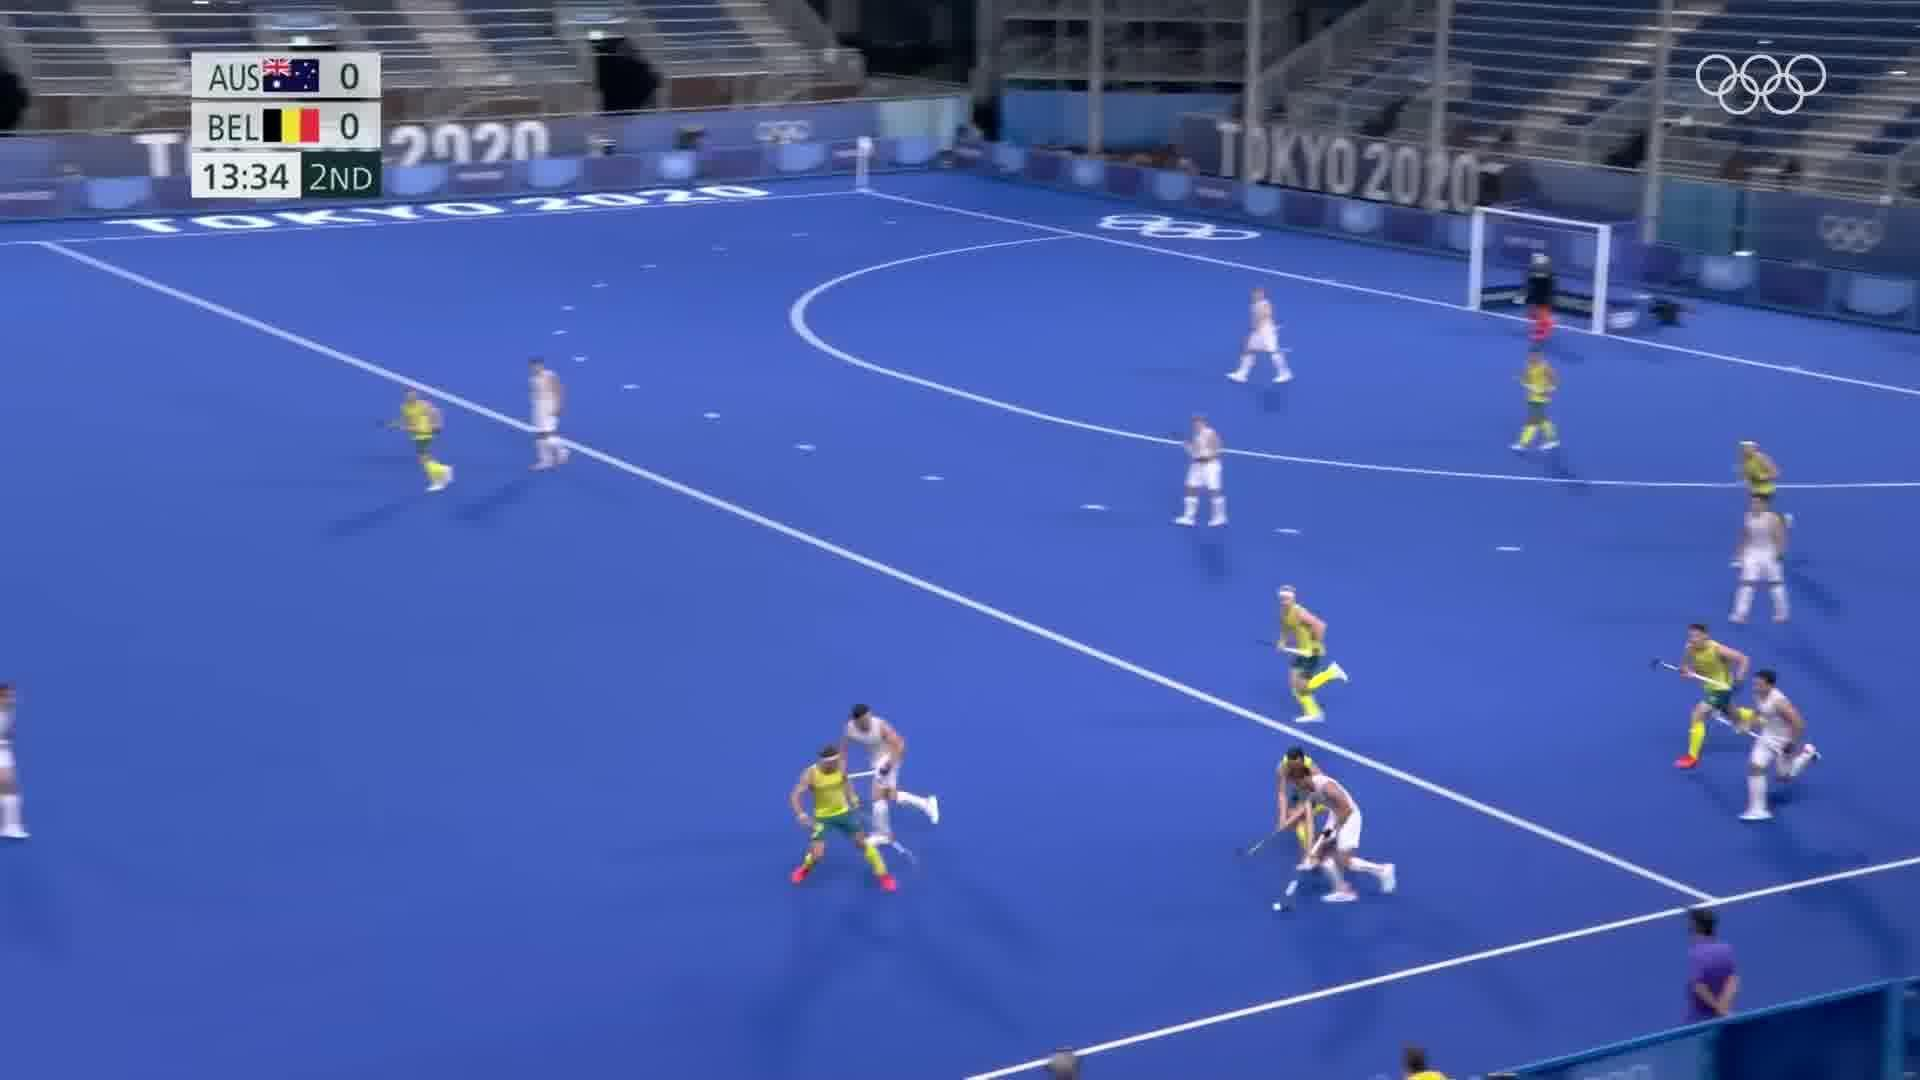ball: (1267, 895, 1287, 922)
